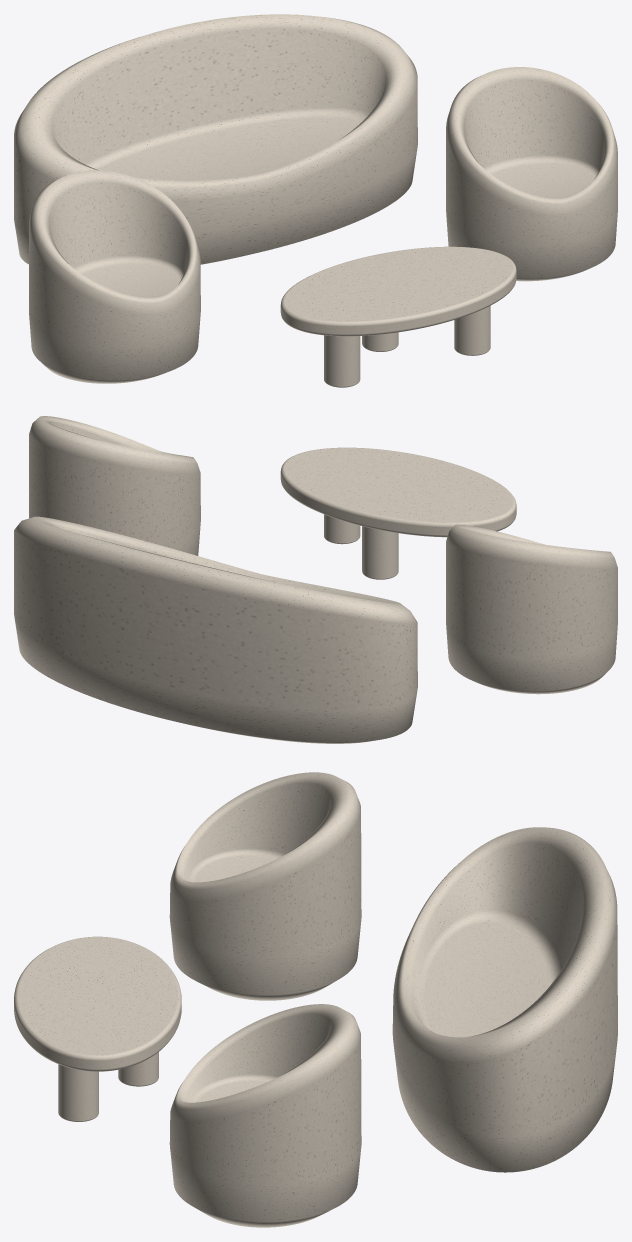
File: F24_white_pebble_lounge_set.glb
3 views of the same model, one above another, from view 1: azimuth 30°, elevation 25°; view 2: azimuth 150°, elevation 25°; view 3: azimuth 270°, elevation 25° (orthographic). The views are drawn at different scales.
Parts seen in each view (by area): view 1: Sofa - one continuous molded pebble body and seat basin, Left armchair - integrated hard-shell bowl, Right armchair - integrated hard-shell bowl, Low table - softly eased thin oval top, Low table - three complete short thick round feet; view 2: Sofa - one continuous molded pebble body and seat basin, Left armchair - integrated hard-shell bowl, Right armchair - integrated hard-shell bowl, Low table - softly eased thin oval top, Low table - three complete short thick round feet; view 3: Sofa - one continuous molded pebble body and seat basin, Left armchair - integrated hard-shell bowl, Right armchair - integrated hard-shell bowl, Low table - softly eased thin oval top, Low table - three complete short thick round feet.
Part boxes in pixels (bbox=[...]): Sofa - one continuous molded pebble body and seat basin: bbox=[14, 14, 417, 264]; Left armchair - integrated hard-shell bowl: bbox=[29, 170, 200, 383]; Right armchair - integrated hard-shell bowl: bbox=[446, 67, 617, 281]; Low table - softly eased thin oval top: bbox=[280, 246, 516, 336]; Low table - three complete short thick round feet: bbox=[324, 306, 490, 387]; Sofa - one continuous molded pebble body and seat basin: bbox=[14, 516, 417, 743]; Left armchair - integrated hard-shell bowl: bbox=[446, 524, 617, 694]; Right armchair - integrated hard-shell bowl: bbox=[29, 416, 200, 555]; Low table - softly eased thin oval top: bbox=[280, 447, 516, 537]; Low table - three complete short thick round feet: bbox=[324, 514, 398, 579]; Sofa - one continuous molded pebble body and seat basin: bbox=[392, 827, 617, 1172]; Left armchair - integrated hard-shell bowl: bbox=[169, 772, 361, 1000]; Right armchair - integrated hard-shell bowl: bbox=[169, 1004, 361, 1227]; Low table - softly eased thin oval top: bbox=[14, 936, 181, 1071]; Low table - three complete short thick round feet: bbox=[58, 1052, 158, 1121].
Bounding box in the file's own units: 3.04 × 0.848 × 2.52.
Materials: 1 (1 with a texture image).
